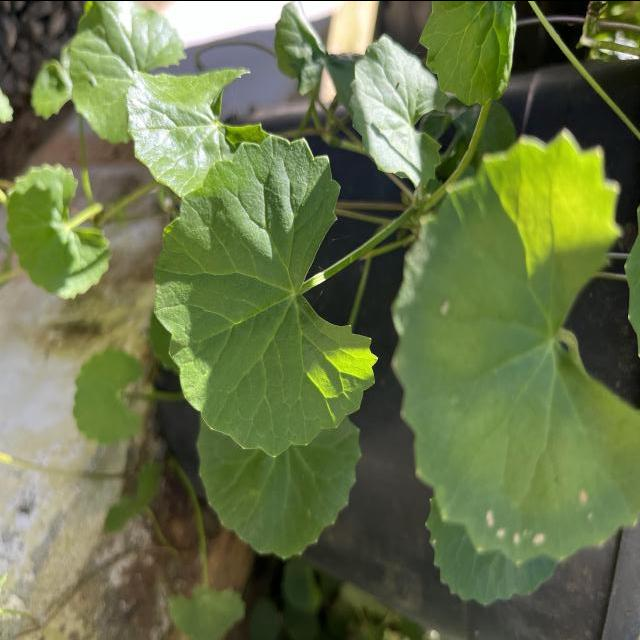Centella asiatica: (151, 131, 381, 460)
